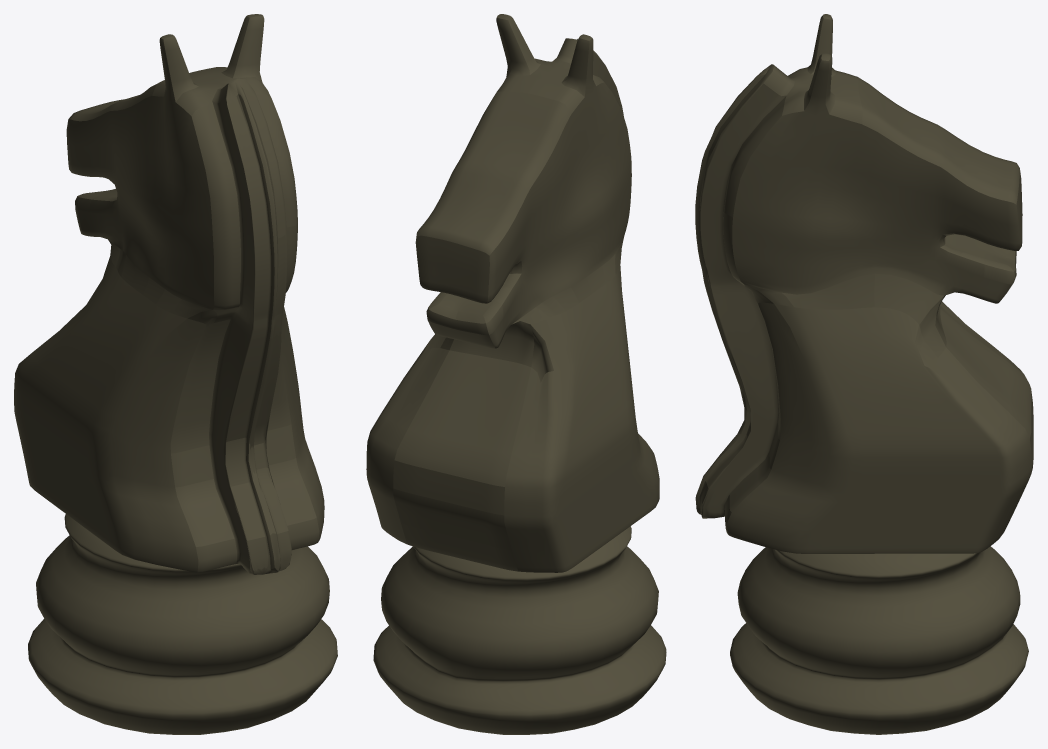
File: white-knight.obj
3 views of the same model, side by side, from view 1: azimuth 30°, elevation 25°; view 2: azimuth 150°, elevation 25°; view 3: azimuth 270°, elevation 25° (orthographic). The views are drawn at different scales.
Parts seen in each view (by area): view 1: pPlane13; view 2: pPlane13; view 3: pPlane13.
Part boxes in pixels (x1,y1,x2,y2): pPlane13: (14, 14, 337, 734); pPlane13: (366, 14, 666, 734); pPlane13: (695, 14, 1033, 734).
Size of the model in its own units: 1.27 by 3.04 by 1.44.
